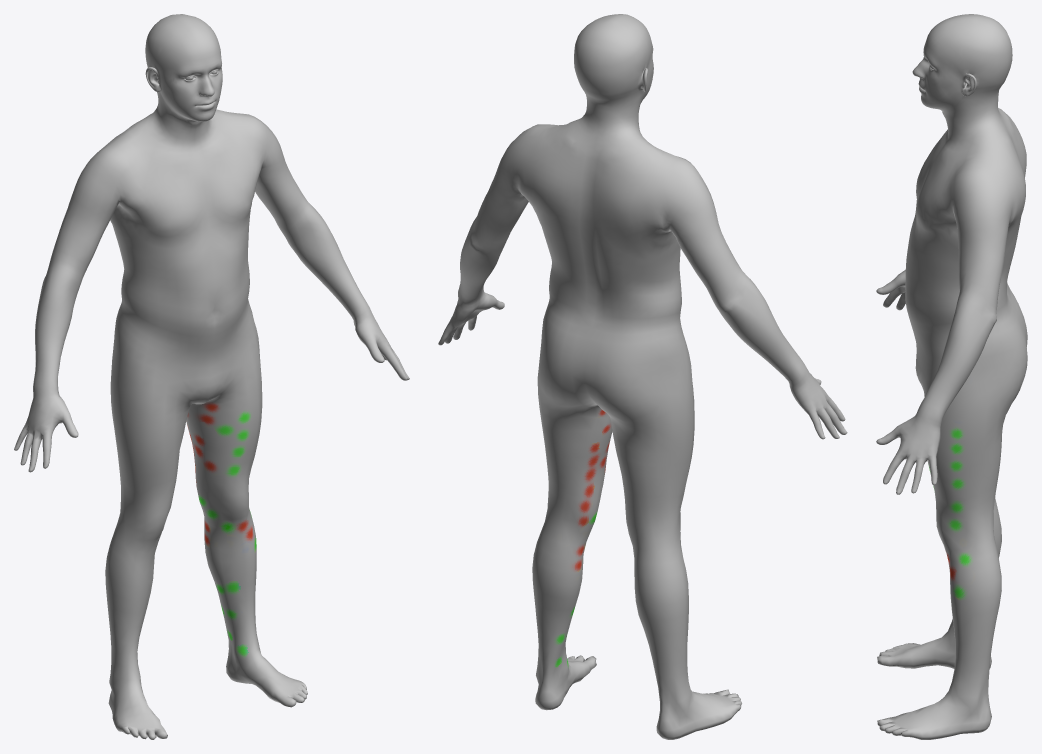
Rendered from 1135018-layingdown-red+green.gltf.
3 views of the same model, side by side, from view 1: azimuth 30°, elevation 25°; view 2: azimuth 150°, elevation 25°; view 3: azimuth 270°, elevation 25° (orthographic). The views are drawn at different scales.
Visible parts, largest first — view 1: Male 68in 160lbs-A-pose; view 2: Male 68in 160lbs-A-pose; view 3: Male 68in 160lbs-A-pose.
Boxes of the visible parts, x1,y1,x2,y2 form: Male 68in 160lbs-A-pose: [14, 14, 409, 739]; Male 68in 160lbs-A-pose: [438, 14, 847, 739]; Male 68in 160lbs-A-pose: [876, 14, 1027, 739].
Bounding box in the file's own units: 4.32 × 7.33 × 1.47.
1 material, 1 textured.
